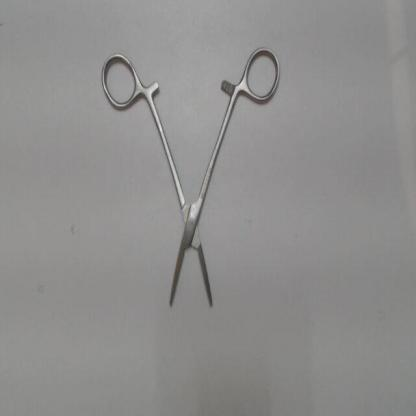Mayo Needle Holder: (96, 38, 286, 318)
